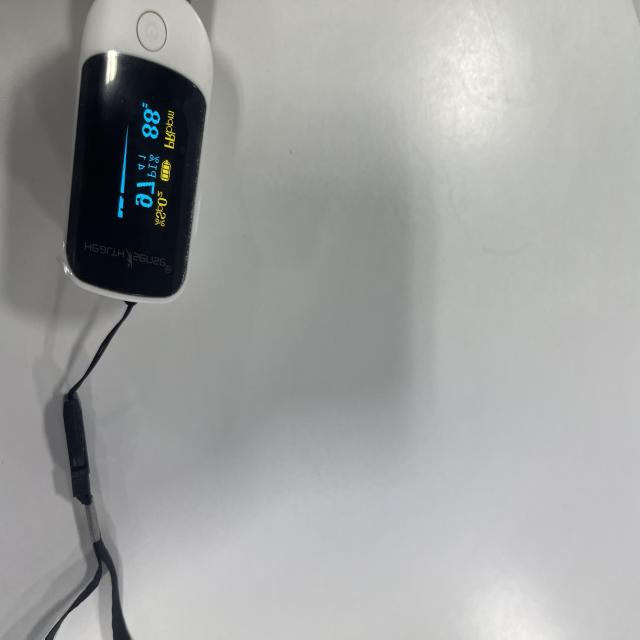spo2: (63, 0, 212, 305)
